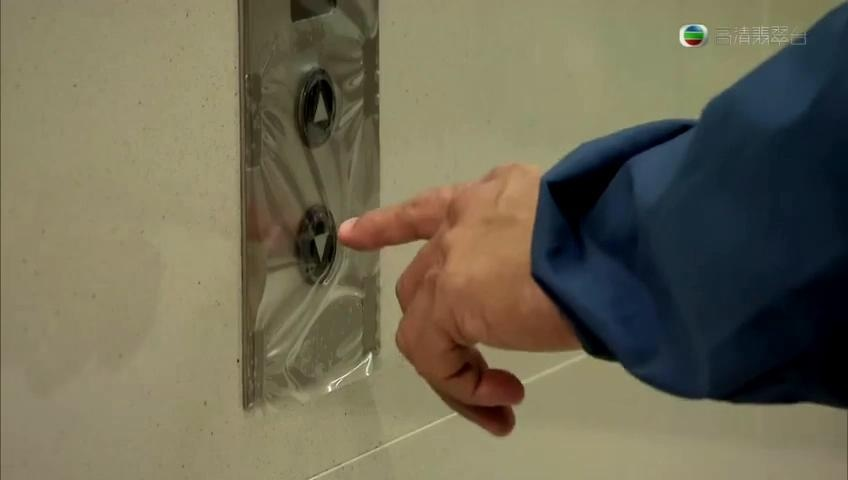down: (295, 205, 339, 288)
up: (294, 68, 337, 149)
